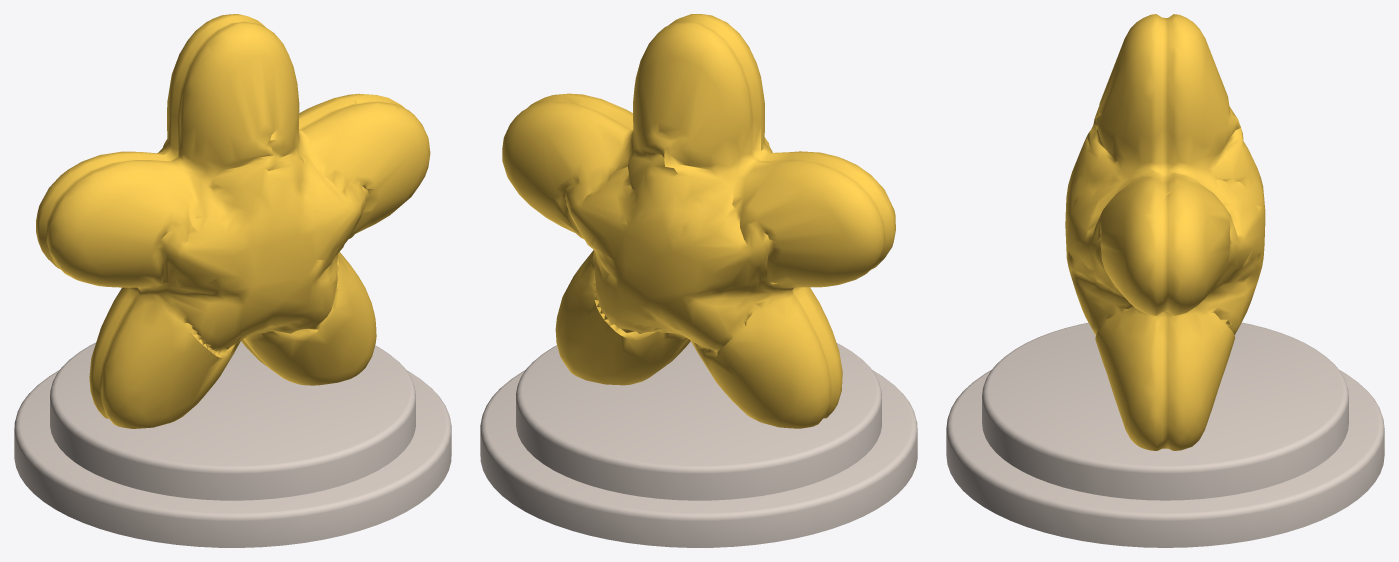
The model's file is mini.glb.
The picture shows the model from 3 angles, left to right: view 1: azimuth 30°, elevation 25°; view 2: azimuth 150°, elevation 25°; view 3: azimuth 270°, elevation 25°; orthographic projection.
Visible parts, largest first — view 1: mini_garden; view 2: mini_garden; view 3: mini_garden.
Boxes of the visible parts, x1,y1,x2,y2 form: mini_garden: [14, 14, 451, 547]; mini_garden: [480, 14, 917, 547]; mini_garden: [946, 14, 1384, 547].
Size of the model in its own units: 0.8607 by 0.9453 by 0.86.
